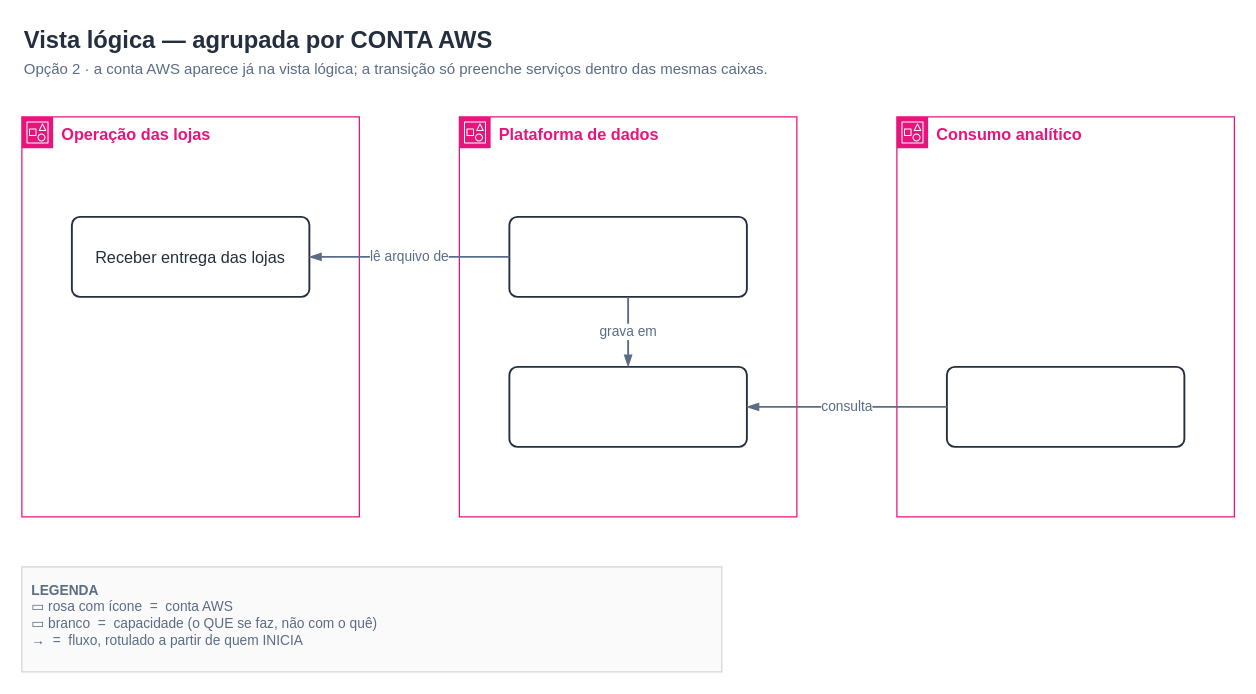
Image size: 1256x694. Some labels were removed from this diagram. The box of each missing label's shape, as (x1, y1, x2, y2) in pixels:
Processar na chegada: (508, 215, 747, 297)
Reter histórico (5 anos): (508, 365, 747, 447)
Servir painel à diretoria: (945, 365, 1185, 447)
